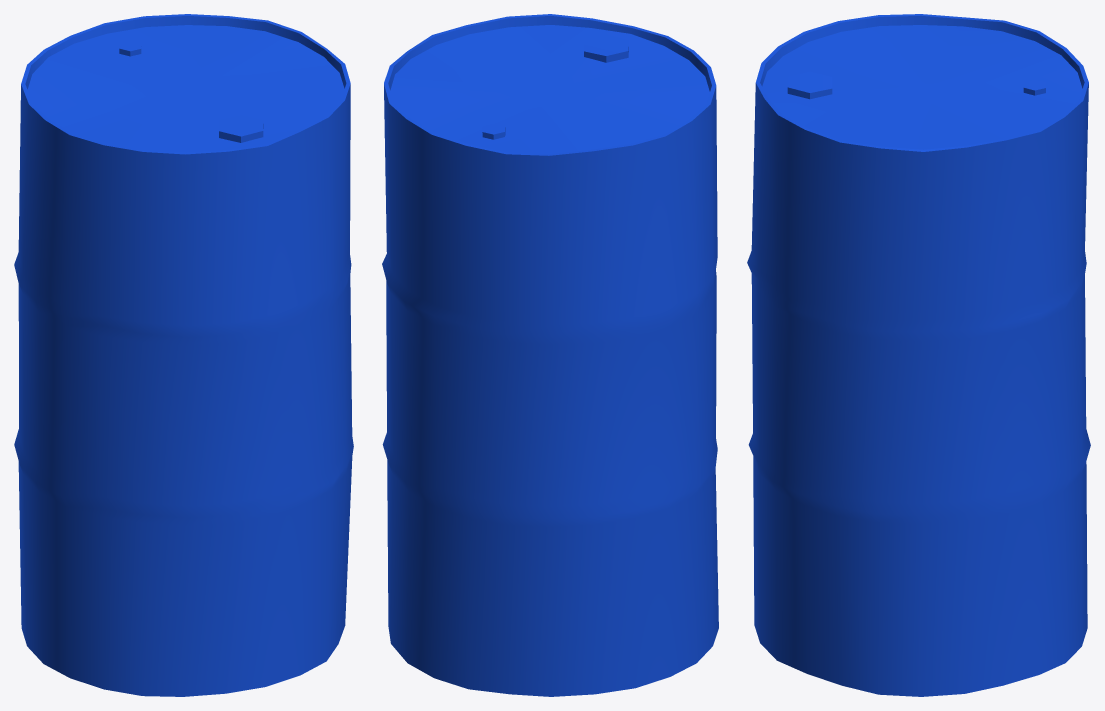
Rendered from barrel_damage1.fbx.
3 renders of one model, left to right at view 1: azimuth 30°, elevation 25°; view 2: azimuth 150°, elevation 25°; view 3: azimuth 270°, elevation 25°, orthographic.
Visible parts, largest first — view 1: barrel_damage1; view 2: barrel_damage1; view 3: barrel_damage1.
Boxes of the visible parts, box(x1,y1,x2,y2) form: barrel_damage1: box(14, 14, 353, 696); barrel_damage1: box(382, 14, 718, 696); barrel_damage1: box(747, 14, 1090, 696).
Bounding box in the file's own units: 50.8 × 90.39 × 51.22.
